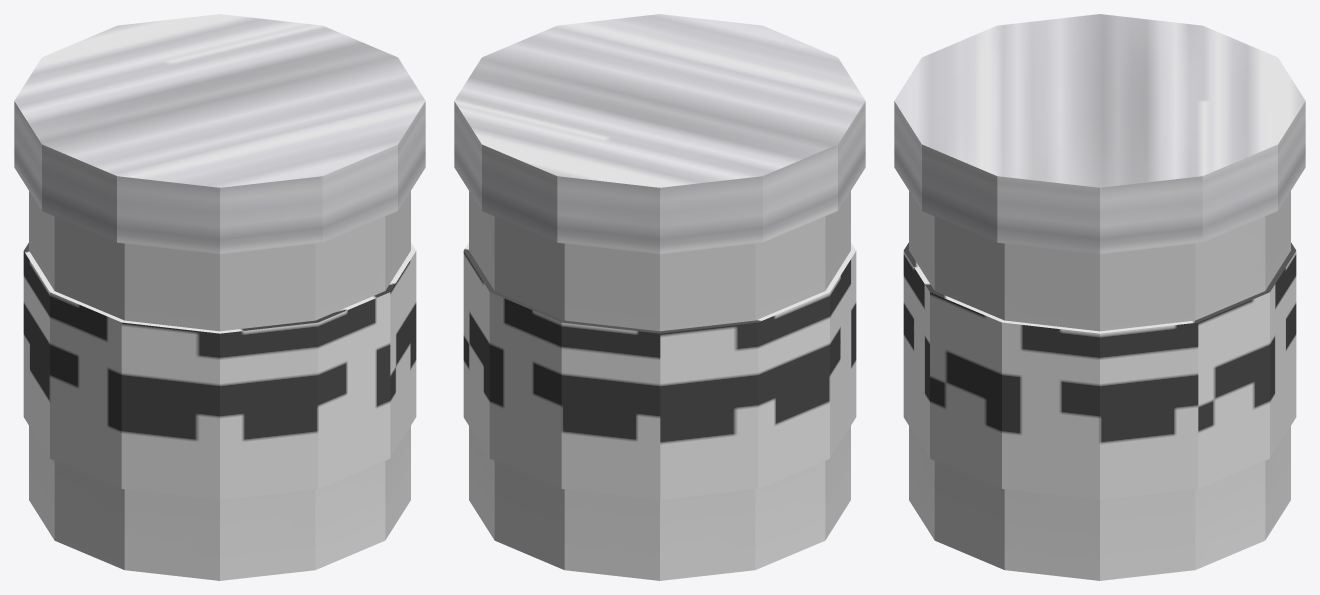
Rendered from p_miele.obj.
3 renders of one model, left to right at view 1: azimuth 30°, elevation 25°; view 2: azimuth 150°, elevation 25°; view 3: azimuth 270°, elevation 25°, orthographic.
Parts seen in each view (by area): view 1: metallo_002, stampa_a_001, vetro_000; view 2: metallo_002, stampa_a_001, vetro_000; view 3: metallo_002, stampa_a_001, vetro_000.
Boxes of the visible parts, x1,y1,x2,y2 form: metallo_002: (14,14,425,254); stampa_a_001: (23,243,416,499); vetro_000: (29,191,410,580); metallo_002: (454,14,865,254); stampa_a_001: (463,242,856,499); vetro_000: (469,191,850,580); metallo_002: (894,14,1305,254); stampa_a_001: (903,242,1296,499); vetro_000: (909,191,1290,580).
Size of the model in its own units: 0.112 by 0.12 by 0.112.
3 materials, 3 textured.
